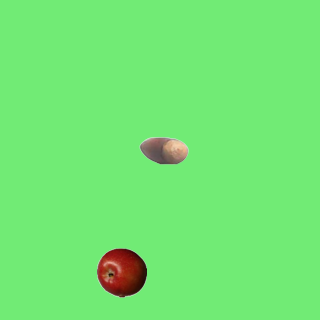Apple Braeburn: (96, 247, 146, 297)
Hazelnut: (138, 125, 188, 175)
